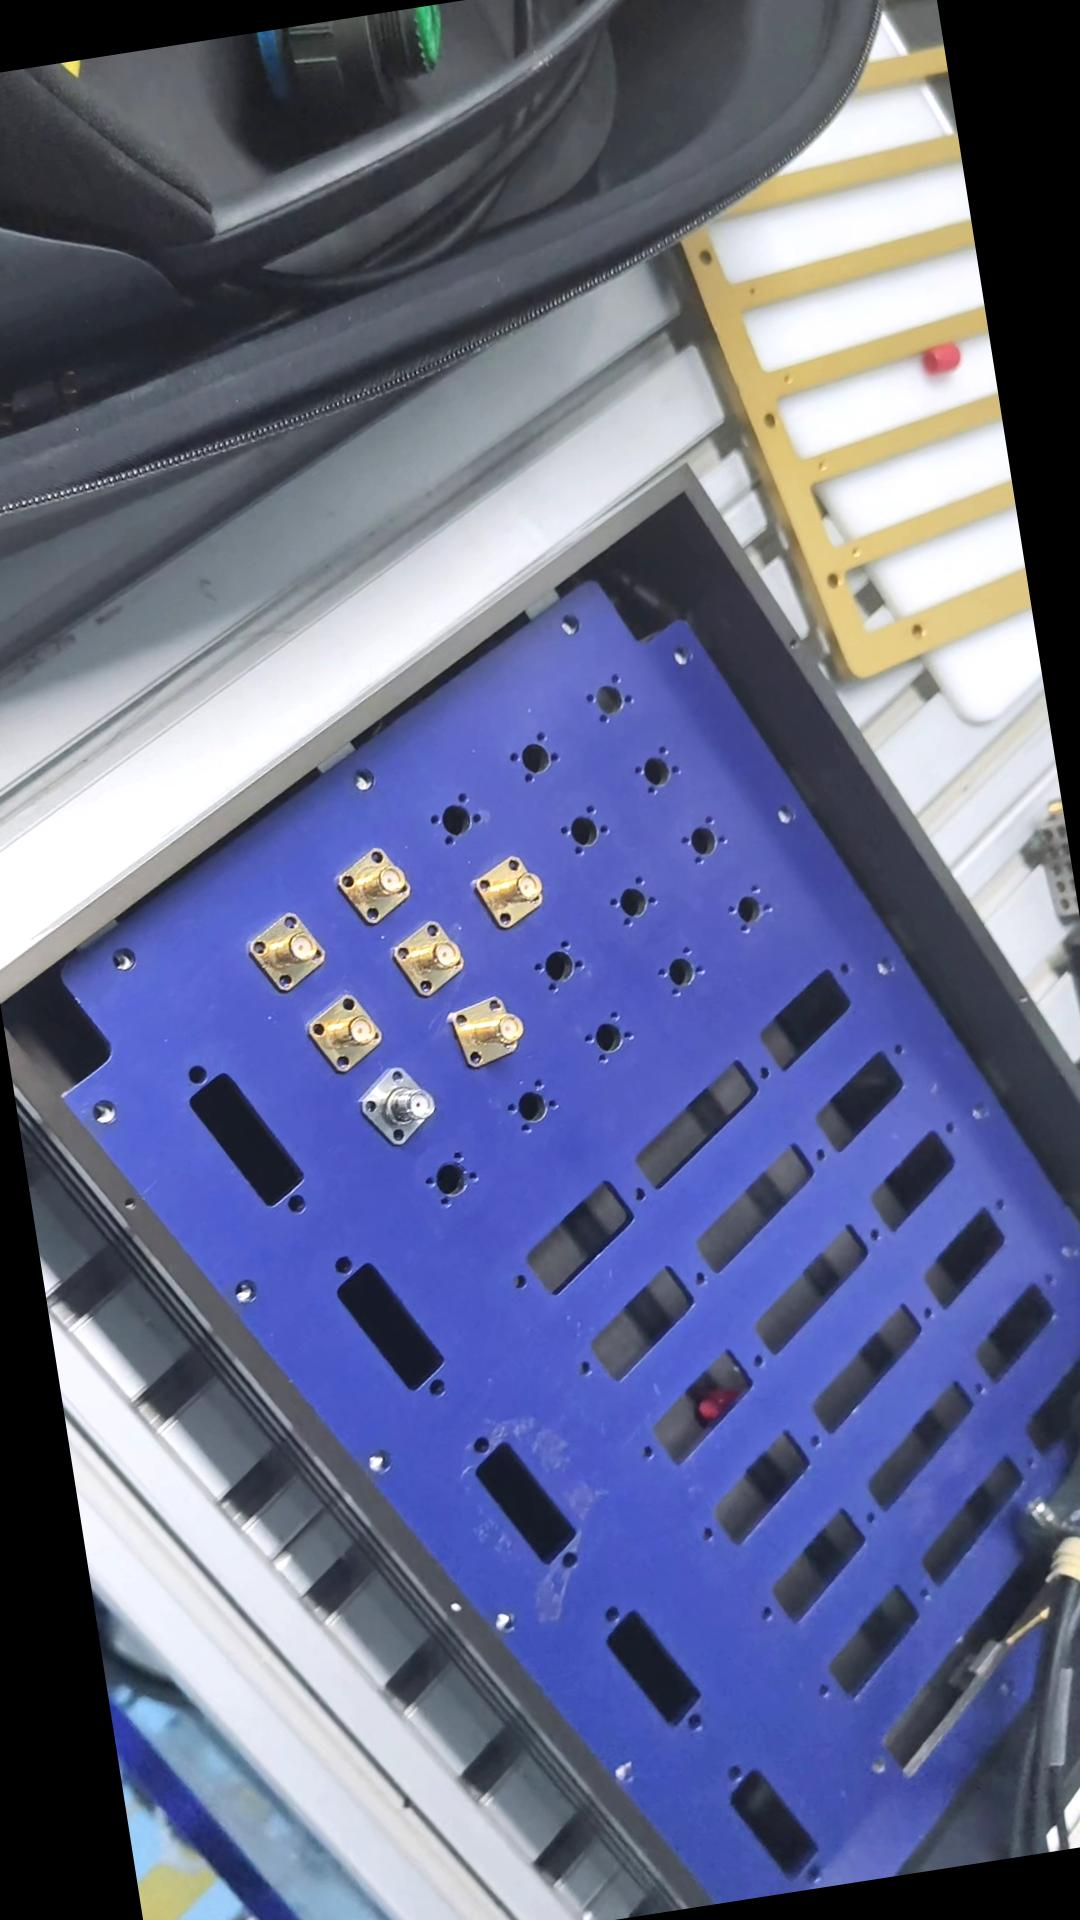SMA: (353, 1058, 447, 1149), (381, 913, 473, 1004), (464, 848, 555, 938), (243, 910, 335, 994), (448, 986, 535, 1073), (335, 837, 419, 927), (301, 989, 390, 1073)
